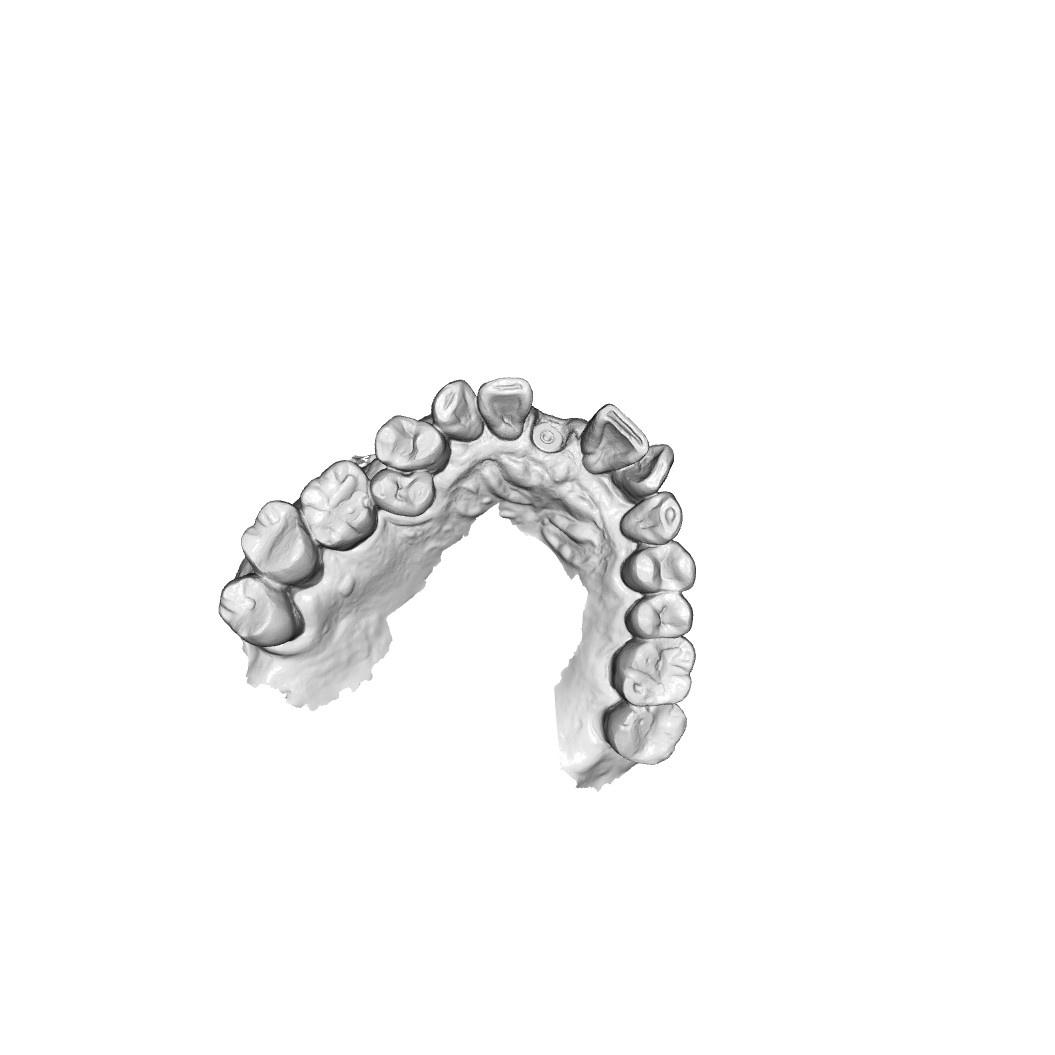canine: (622, 491, 684, 547), (430, 379, 488, 437)
implant: (533, 425, 564, 457)
incisor: (578, 407, 651, 477), (478, 378, 538, 443), (618, 448, 672, 498)
molar: (240, 494, 314, 587), (300, 461, 375, 548), (215, 575, 296, 650), (614, 633, 700, 703), (598, 702, 687, 769)
premolar: (623, 541, 699, 592), (372, 465, 437, 519), (375, 415, 441, 468), (626, 591, 696, 639)
